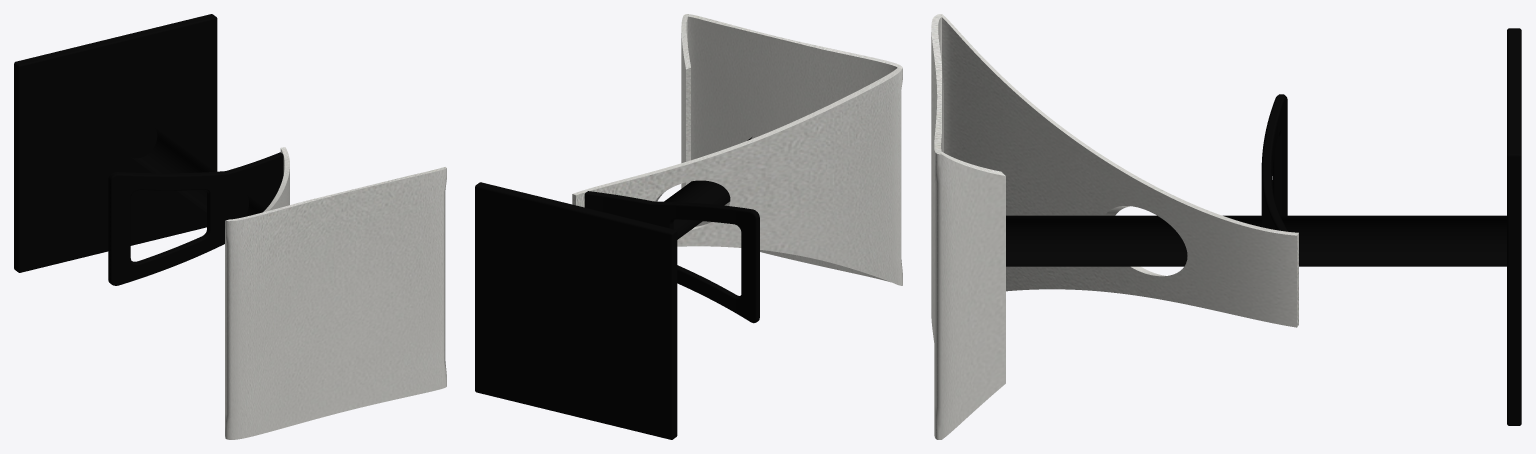
Rendered from Z Stool.fbx.
3 renders of one model, left to right at view 1: azimuth 30°, elevation 25°; view 2: azimuth 150°, elevation 25°; view 3: azimuth 270°, elevation 25°, orthographic. The views are drawn at different scales.
Visible parts, largest first — view 1: N3D_MD Chair Cush_Leather_White, N3D_Metal_SS; view 2: N3D_Metal_SS, N3D_MD Chair Cush_Leather_White; view 3: N3D_MD Chair Cush_Leather_White, N3D_Metal_SS.
Boxes of the visible parts, left/top/right/bottom form: N3D_MD Chair Cush_Leather_White: left=225, top=147, right=446, bottom=439; N3D_Metal_SS: left=14, top=14, right=283, bottom=285; N3D_Metal_SS: left=475, top=137, right=759, bottom=439; N3D_MD Chair Cush_Leather_White: left=572, top=14, right=902, bottom=285; N3D_MD Chair Cush_Leather_White: left=931, top=14, right=1298, bottom=439; N3D_Metal_SS: left=1006, top=28, right=1521, bottom=425.
Size of the model in its own units: 465 by 443 by 827.
